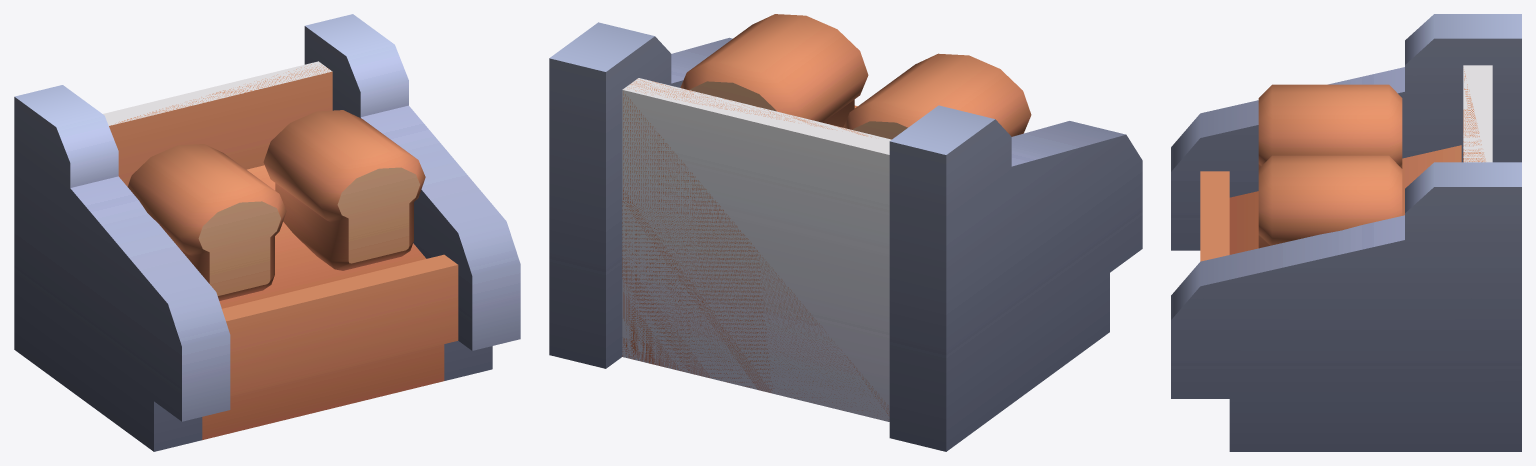
File: display-bread.glb
3 views of the same model, side by side, from view 1: azimuth 30°, elevation 25°; view 2: azimuth 150°, elevation 25°; view 3: azimuth 270°, elevation 25° (orthographic). The views are drawn at different scales.
Visible parts, largest first — view 1: display-bread, bread (×2); view 2: display-bread, bread (×2); view 3: display-bread, bread (×2).
Part boxes in pixels (<box>): display-bread: <box>14,14,520,451</box>; bread (×2): <box>127,110,425,300</box>; display-bread: <box>549,22,1142,451</box>; bread (×2): <box>680,14,1031,139</box>; display-bread: <box>1171,14,1521,451</box>; bread (×2): <box>1258,84,1402,248</box>.
Size of the model in its own units: 0.7 by 0.5 by 0.6.
Materials: 1 (1 with a texture image).
